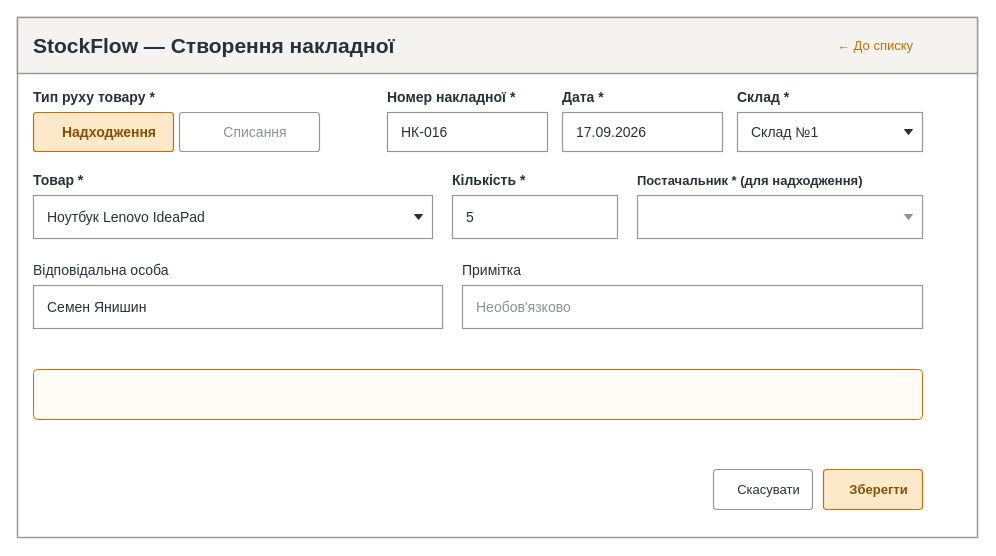
The diagram is 996 pixels wide and 556 high, and some of its shapes have lost their labels. The shapes that lost their labels are listed below. From the top down, each one's centre as x and y in pixels, then its label:
At pixel 779 216: "Оберіть постачальника".
At pixel 477 394: "Після збереження залишок товару на вибраному складі оновиться автоматично.".
